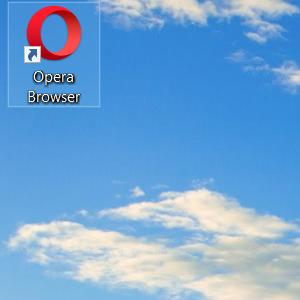opera: (24, 5, 82, 64)
